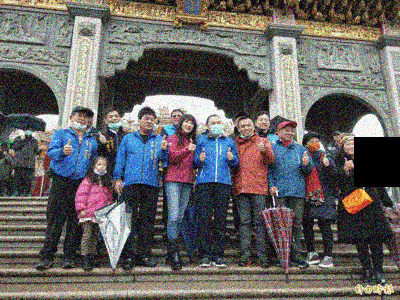mask_weared_incorrect: (72, 114, 89, 129), (239, 122, 255, 137), (107, 114, 120, 129), (94, 161, 107, 175)
with_mask: (207, 120, 223, 135), (306, 139, 321, 152), (25, 128, 33, 137)
without_mask: (343, 141, 359, 155), (139, 116, 155, 130), (280, 128, 295, 141), (182, 118, 195, 133), (256, 118, 270, 130), (171, 113, 184, 125), (333, 134, 342, 142)
